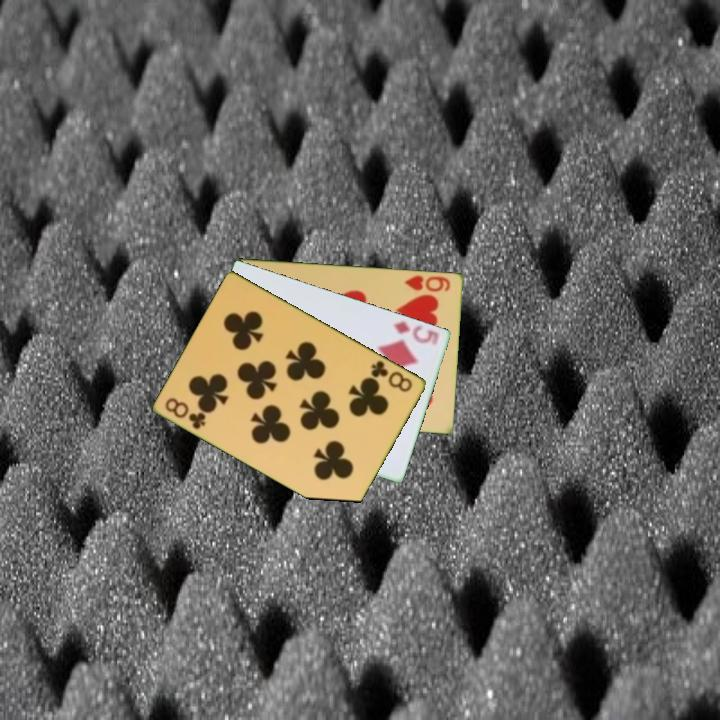5d: (390, 318, 443, 348)
6h: (401, 271, 454, 294)
8c: (367, 357, 416, 395), (162, 394, 209, 432)
